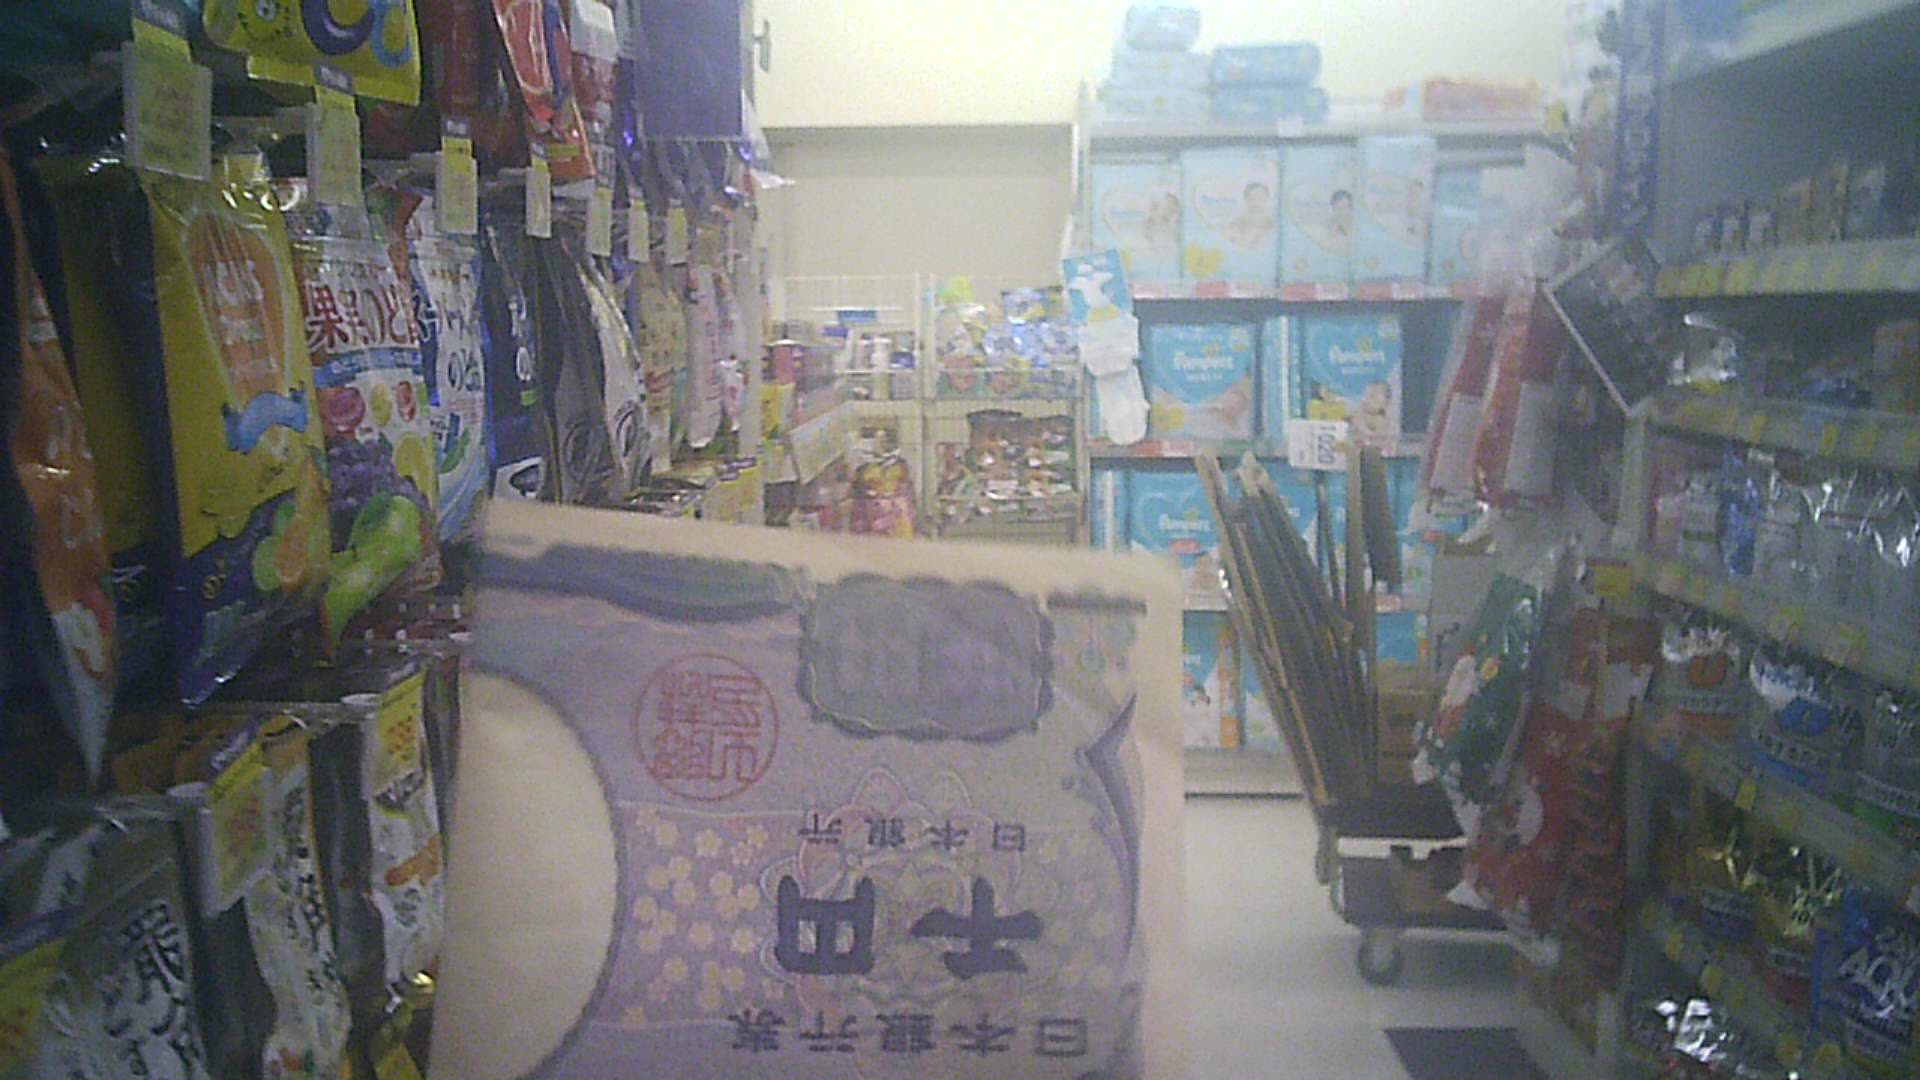1,000 Yen: (429, 483, 1197, 1076)
